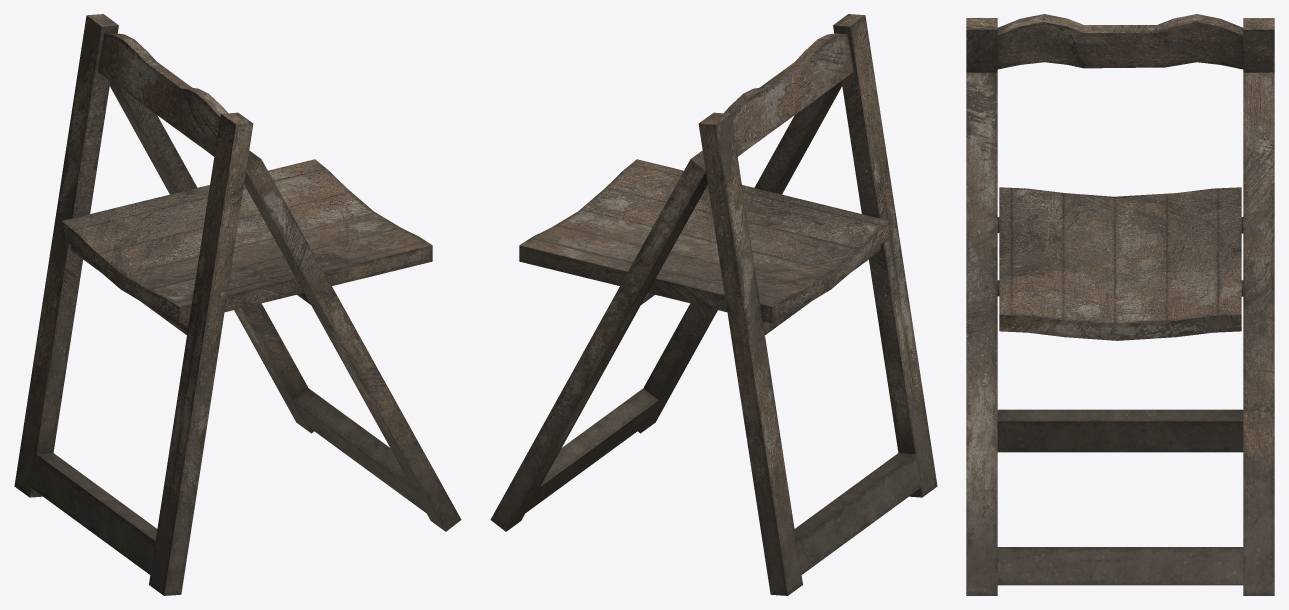
The model's file is SM_Chair01.glb.
3 views of the same model, side by side, from view 1: azimuth 30°, elevation 25°; view 2: azimuth 150°, elevation 25°; view 3: azimuth 270°, elevation 25° (orthographic). The views are drawn at different scales.
Parts seen in each view (by area): view 1: SM_Chair01; view 2: SM_Chair01; view 3: SM_Chair01.
Part boxes in pixels (x1,y1,x2,y2): SM_Chair01: (14, 14, 461, 595); SM_Chair01: (490, 14, 937, 595); SM_Chair01: (966, 14, 1274, 595).
Size of the model in its own units: 0.6376 by 0.9455 by 0.5555.
Materials: 1 (1 with a texture image).
